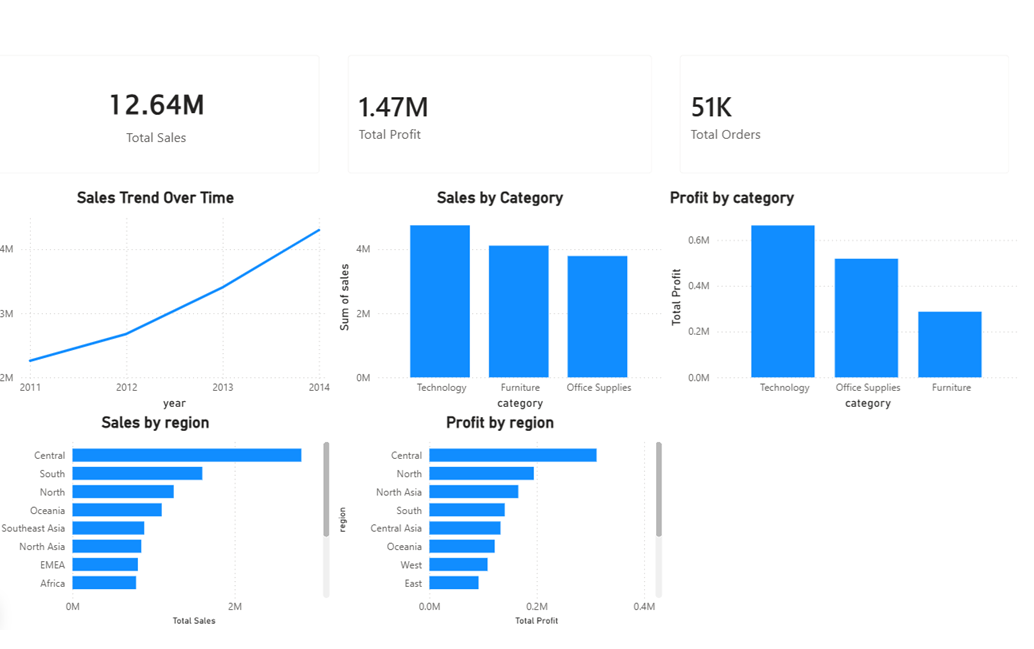

The dashboard page shown, as its layout file describes it:
{"tool":"powerbi","page":{"name":"Global Superstore Sales & Profitability Analysis","canvas":[1280,720],"ordinal":0},"visuals":[{"type":"cardVisual","fields":{"Data":["superstore_clean.Total Sales"]},"box":[0,0,436.4,179.2],"z":0},{"type":"cardVisual","fields":{"Data":["superstore_clean.Total Profit"]},"box":[436.4,0,406.5,179.2],"z":1000},{"type":"cardVisual","fields":{"Data":["superstore_clean.Total Orders"]},"box":[842.9,0,437.7,179.2],"z":2000},{"type":"lineChart","title":"Sales Trend Over Time","fields":{"Category":["superstore_clean.year"],"Y":["Sum(superstore_clean.sales)"]},"box":[0,179.2,436.4,275.3],"z":3000},{"type":"clusteredColumnChart","title":"Sales by Category","fields":{"Category":["superstore_clean.category"],"Y":["Sum(superstore_clean.sales)"]},"box":[436.4,179.2,406.5,275.3],"z":4000},{"type":"clusteredColumnChart","title":"Profit by category","fields":{"Category":["superstore_clean.category"],"Y":["superstore_clean.Total Profit"]},"box":[842.9,179.2,436.4,275.3],"z":5000},{"type":"clusteredBarChart","title":"Sales by region","fields":{"Category":["superstore_clean.region"],"Y":["superstore_clean.Total Sales"]},"box":[0,454.5,436.4,264.9],"z":6000},{"type":"clusteredBarChart","title":"Profit by region","fields":{"Category":["superstore_clean.region"],"Y":["superstore_clean.Total Profit"]},"box":[436.4,454.5,406.5,264.9],"z":7000}]}

Visuals, with their boxes on the page's 1280x720 design canvas (x1, y1, x2, y2). These are canvas units, not pixel positions in the 1034x649 screenshot, which may show the page scaled, cropped or inside an application window:
cardVisual - superstore_clean.Total Sales: crop(0, 0, 436, 179)
cardVisual - superstore_clean.Total Profit: crop(436, 0, 843, 179)
cardVisual - superstore_clean.Total Orders: crop(843, 0, 1281, 179)
"Sales Trend Over Time" lineChart: crop(0, 179, 436, 454)
"Sales by Category" clusteredColumnChart: crop(436, 179, 843, 454)
"Profit by category" clusteredColumnChart: crop(843, 179, 1279, 454)
"Sales by region" clusteredBarChart: crop(0, 454, 436, 719)
"Profit by region" clusteredBarChart: crop(436, 454, 843, 719)
